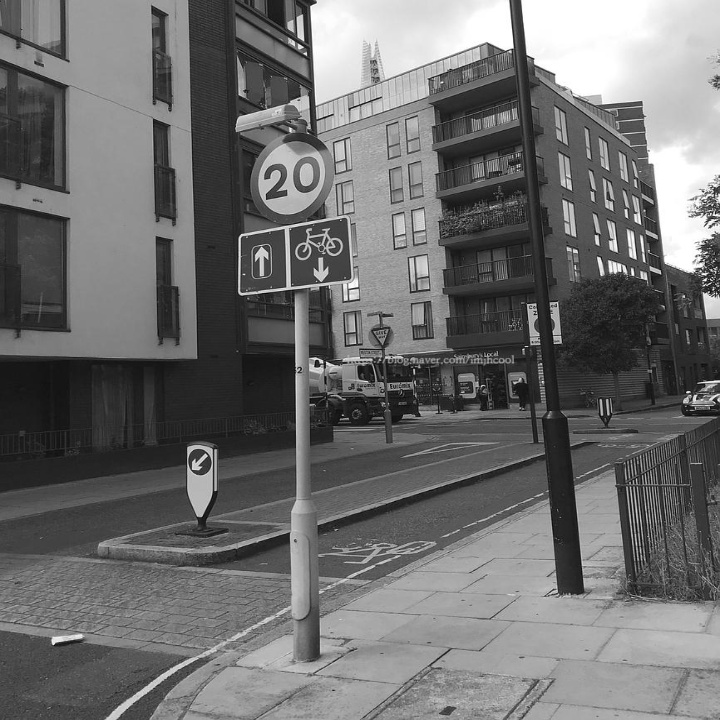bicycle: (286, 228, 343, 257)
